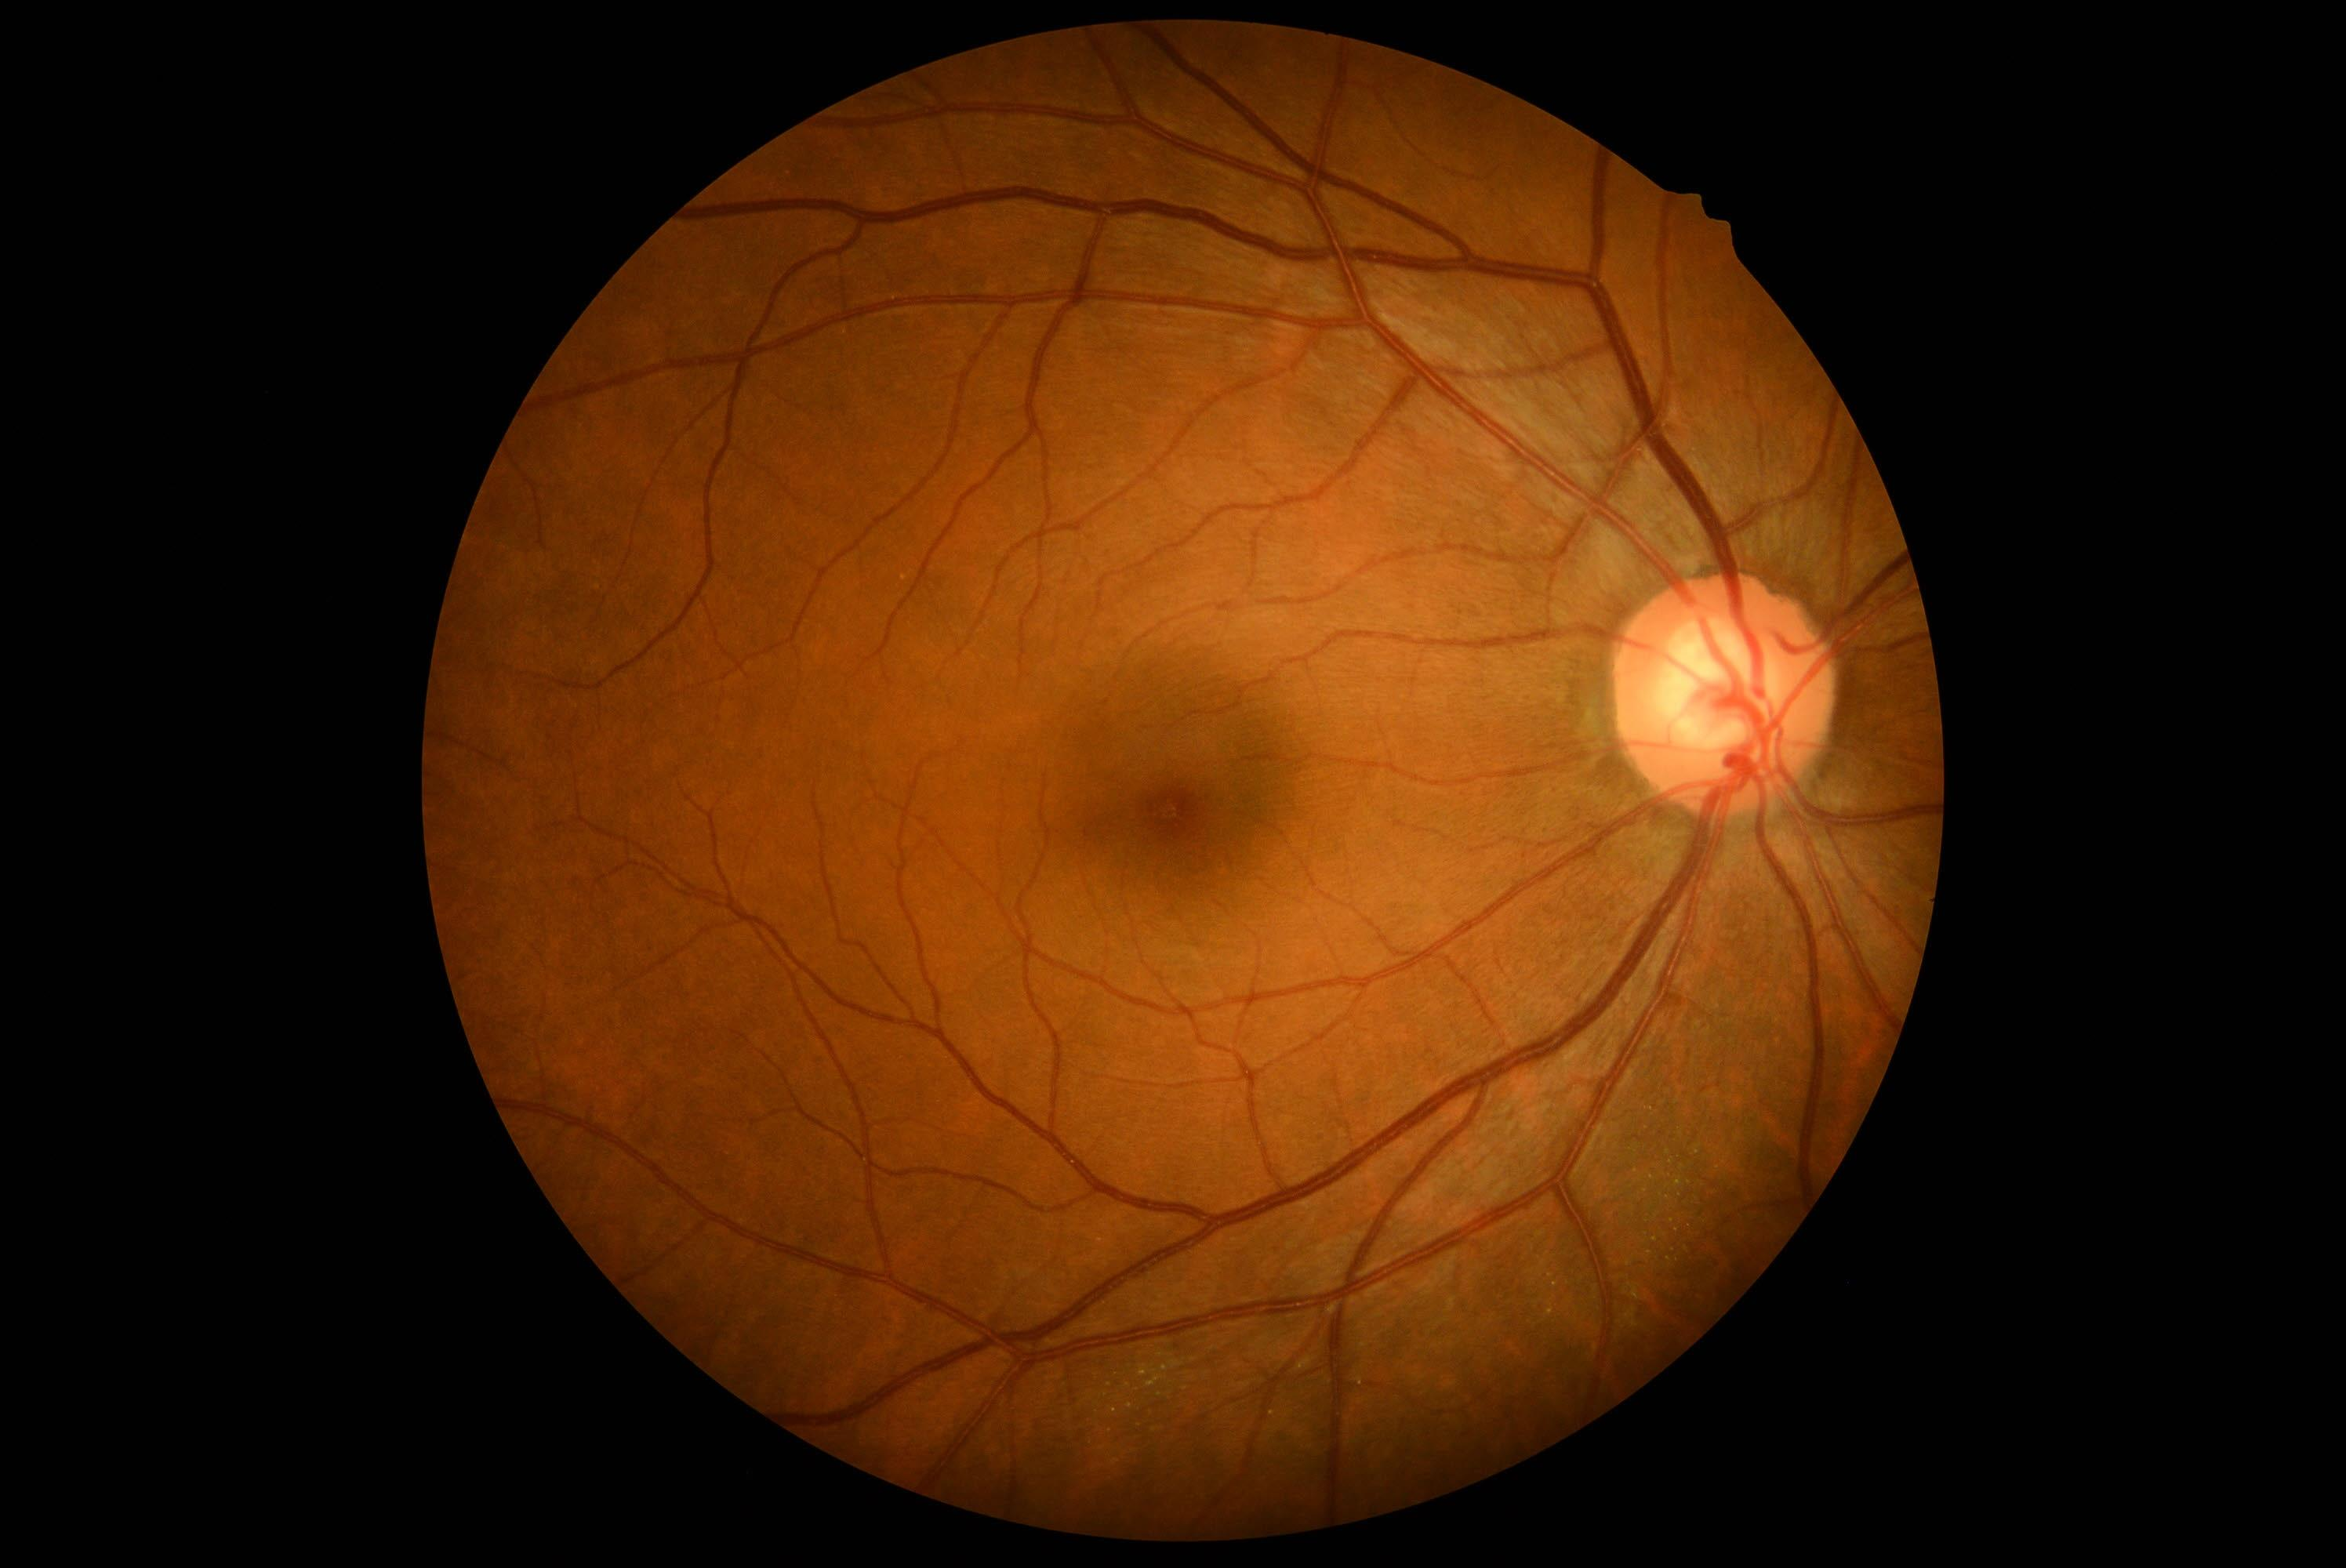Fovea: (1090, 730, 1249, 889)
